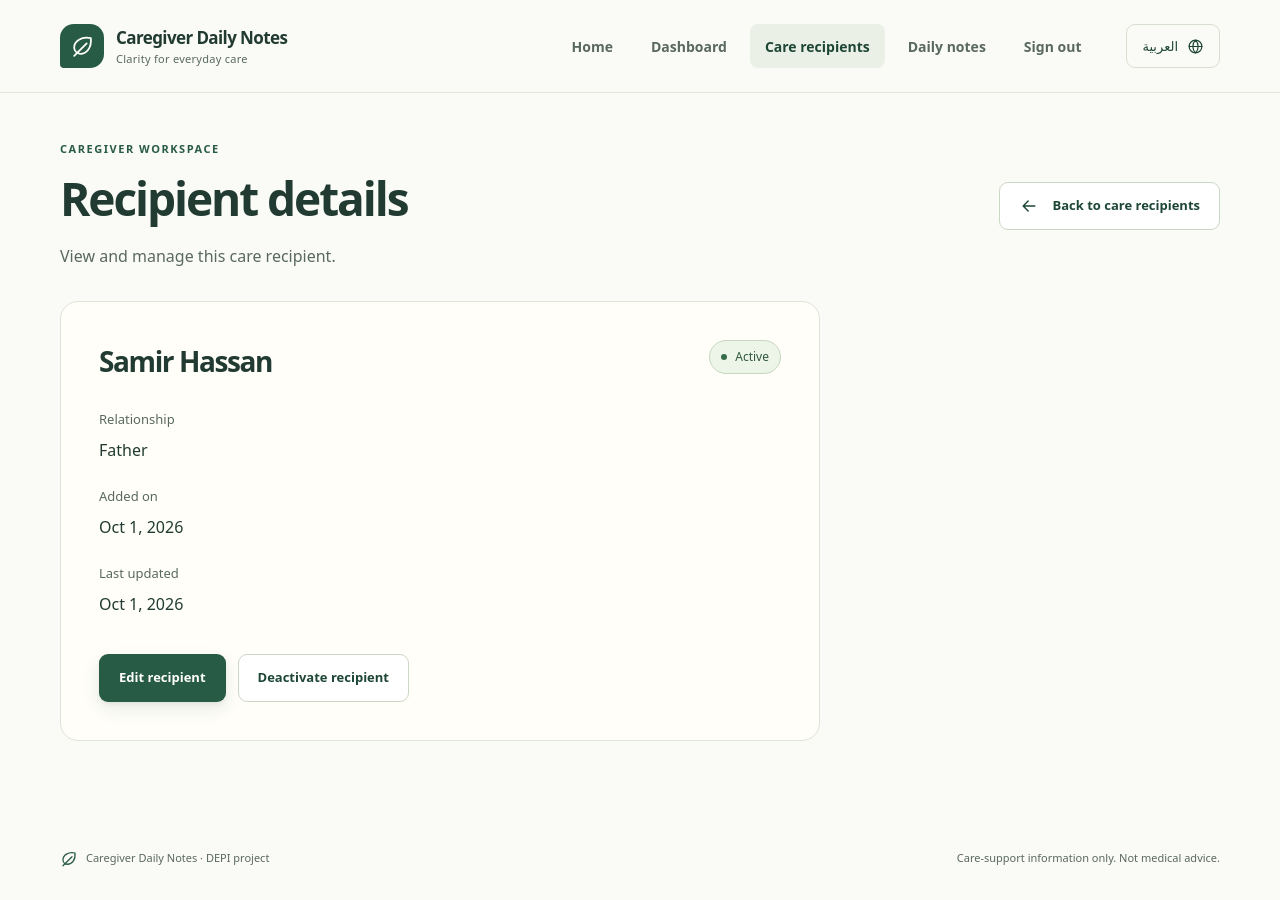
Test: care recipients screens › requires confirmation and restores focus when deactivation is cancelled
Click the button "Deactivate recipient".
click(323, 678)  # box [238,654,409,702]
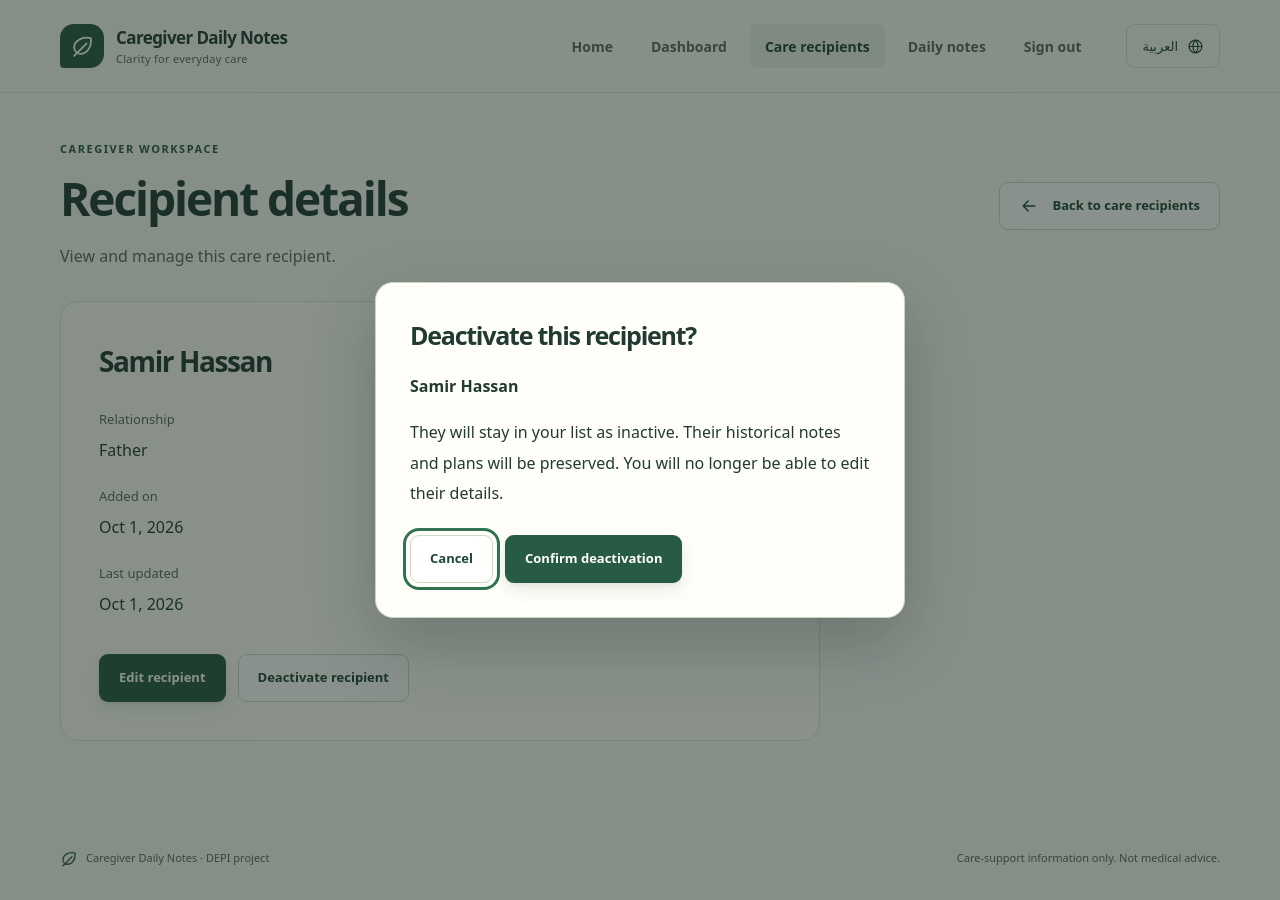
Expected: the dialog "Deactivate this recipient?" shows "Their historical notes and plans will be preserved.", [410,421,869,504]
Click the button "Cancel".
click(452, 558)  # box [410,534,493,582]
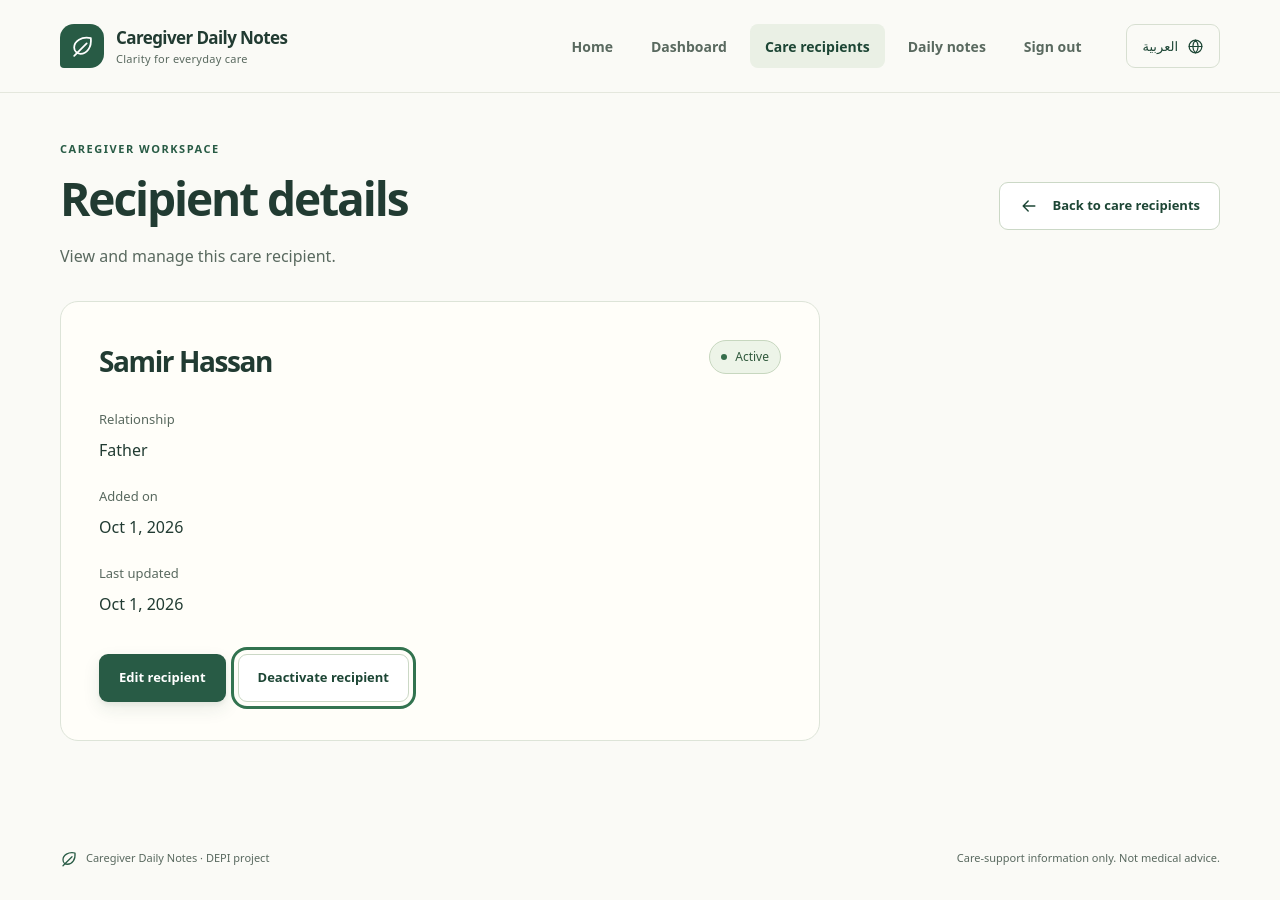
Expected: the dialog is gone
